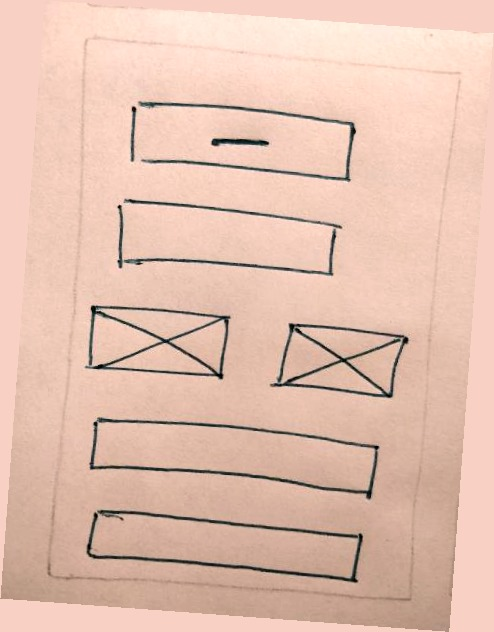button: (114, 87, 369, 192)
image: (82, 292, 235, 390), (265, 308, 418, 405)
text_input: (80, 407, 386, 504), (77, 500, 383, 589), (106, 190, 346, 291)
